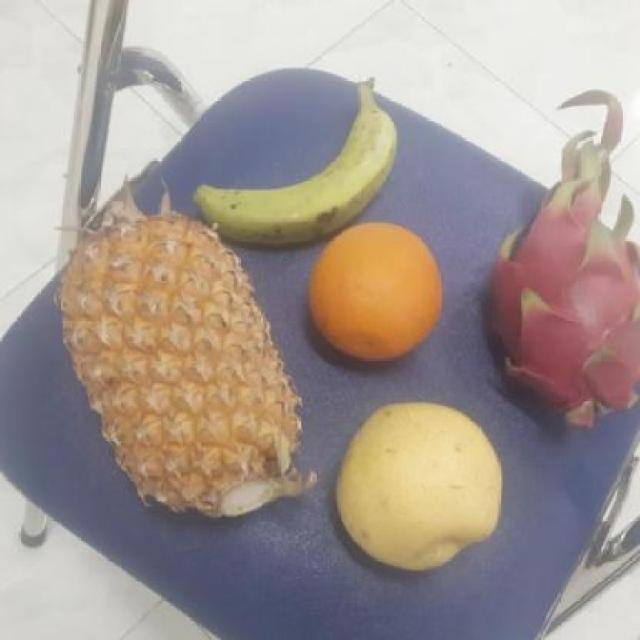banana: (194, 80, 394, 242)
dragon fruit: (475, 176, 639, 436)
guava: (332, 401, 506, 568)
oren: (299, 217, 453, 361)
pineapple: (53, 214, 313, 518)
